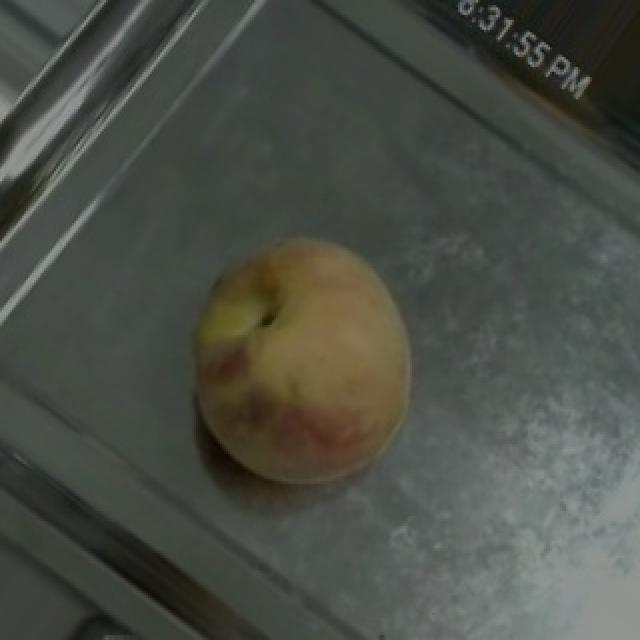Fruit: (142, 196, 464, 531)
